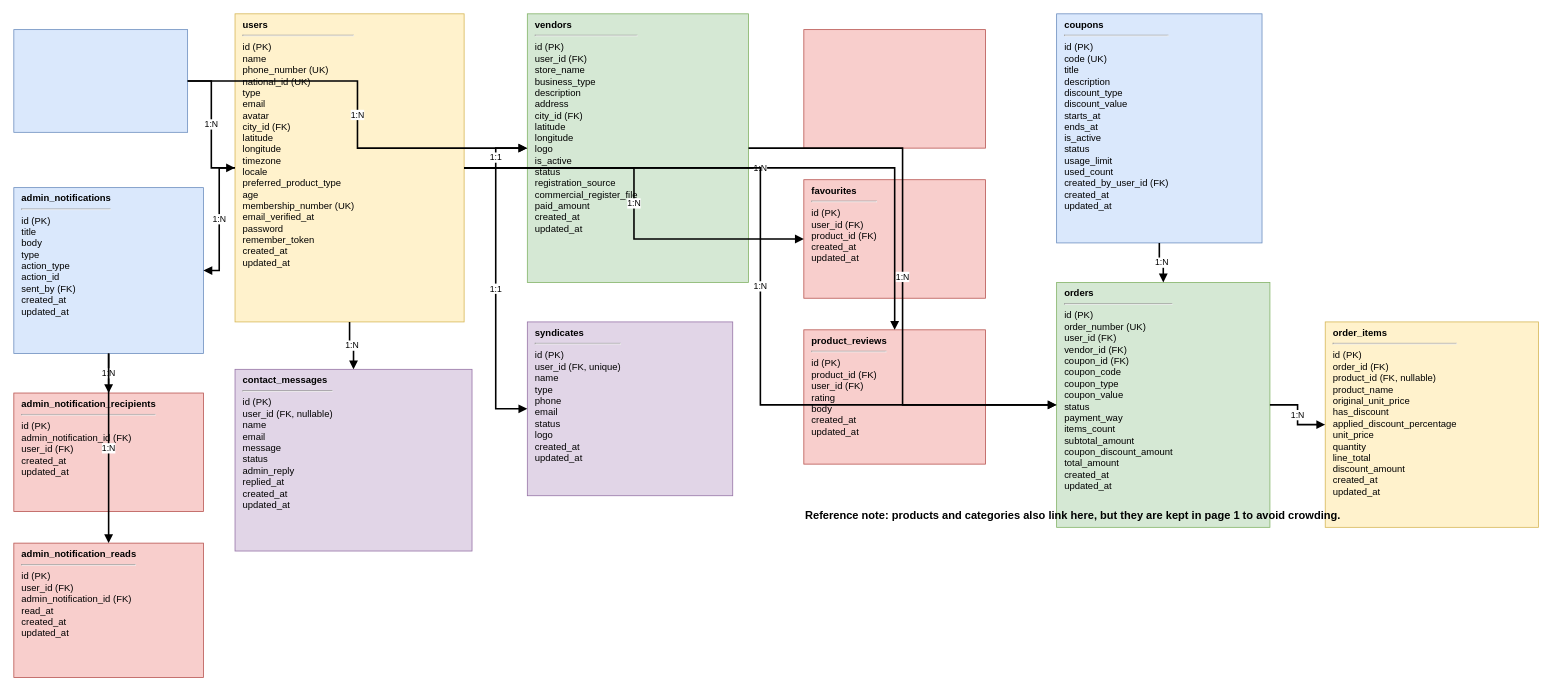
Image size: 1552x691. Some labels were removed from this diagram. Each missing label, with the centre of its shape:
category_vendor id (PK) category_id (FK) vendor_id (FK) created_at updated_at: the point at 894,88
cities id (PK) name created_at updated_at: the point at 100,80
